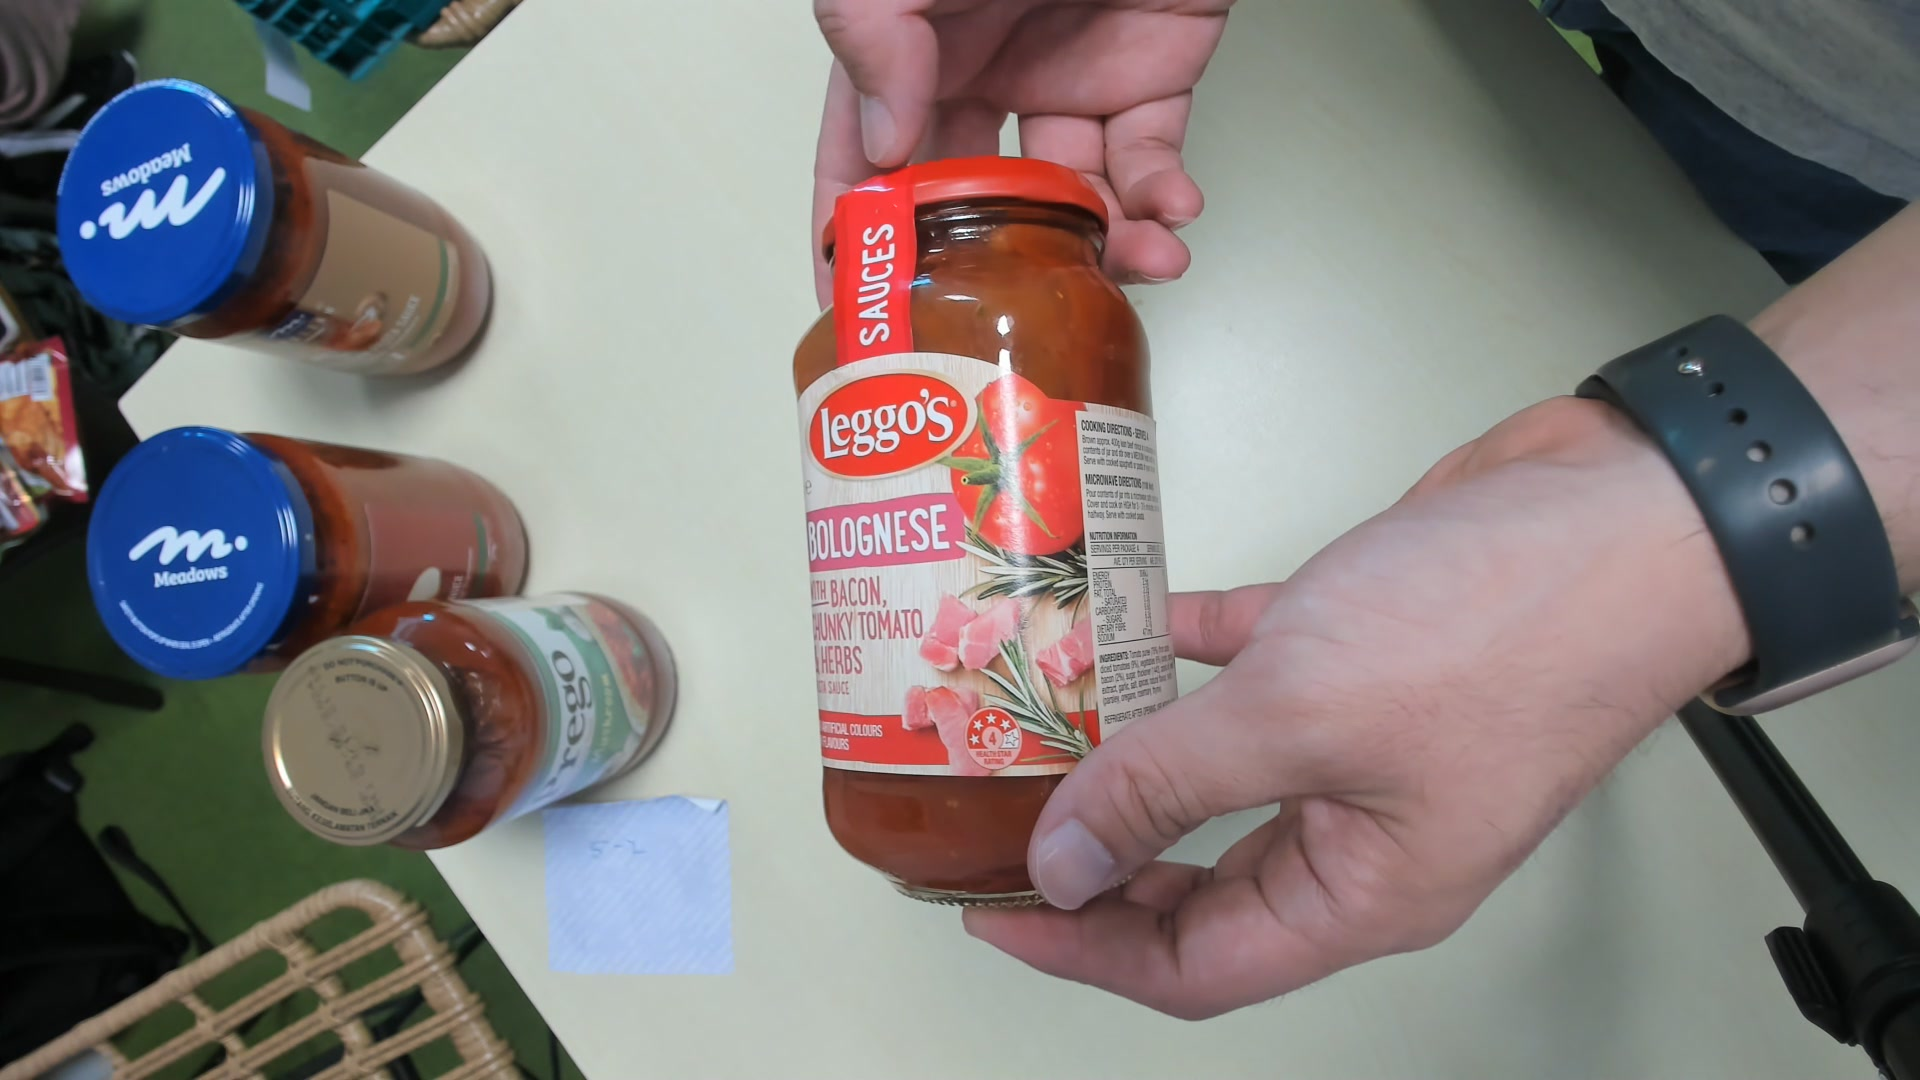PastaSauce_500-599g_Halal_NonHealthy: (796, 152, 1178, 902)
